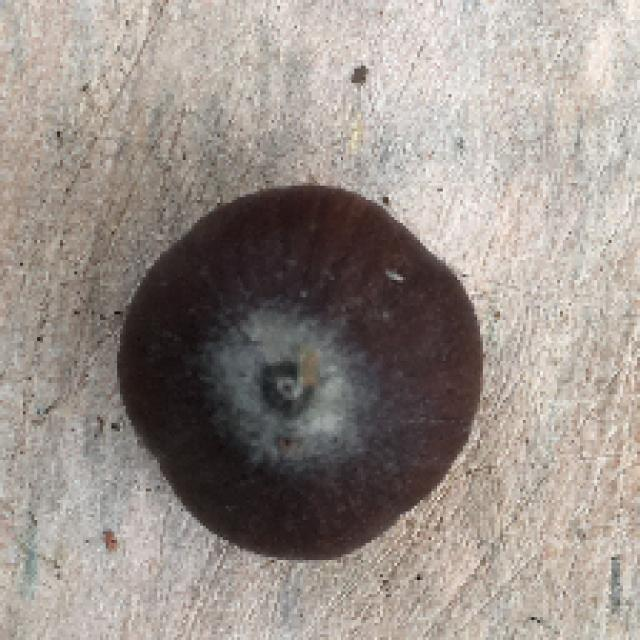damagedHazelnut: (114, 172, 488, 564)
